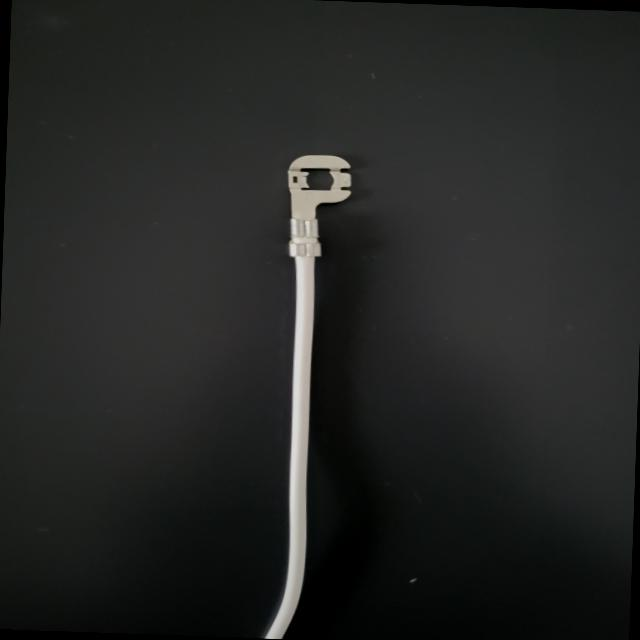defect: (240, 209, 341, 272)
